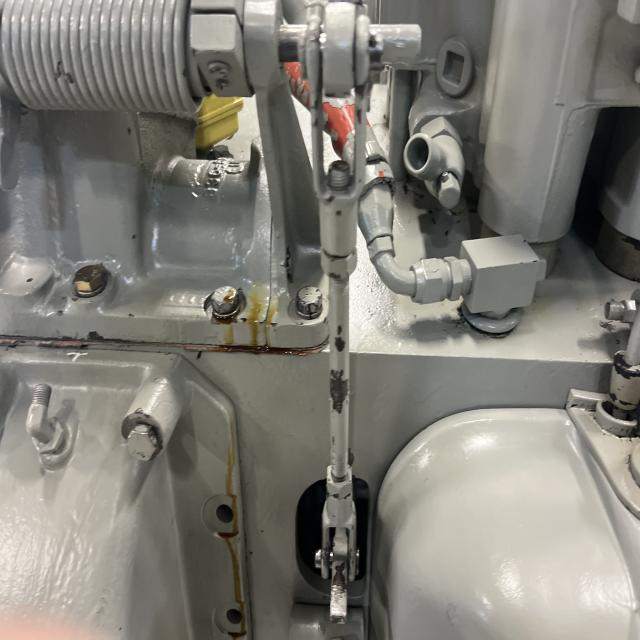Oil Leak: (203, 410, 247, 640), (238, 284, 269, 345)
